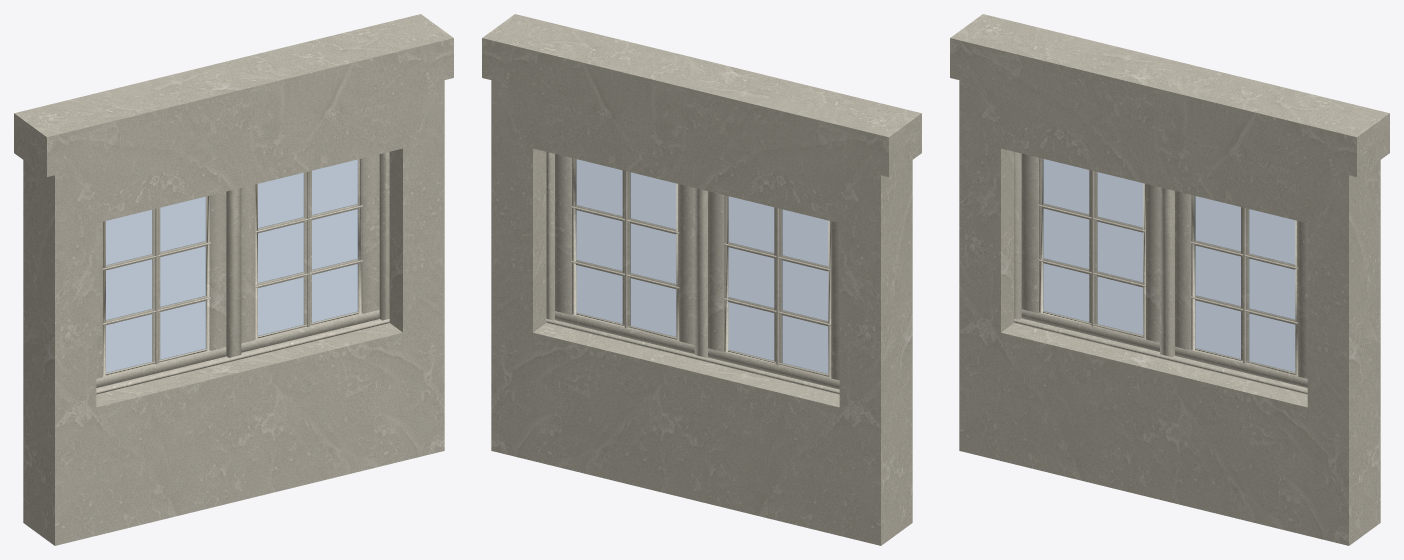
Rendered from AlabasterSquareWIndowedWall.001.glb.
The picture shows the model from 3 angles, left to right: view 1: azimuth 30°, elevation 25°; view 2: azimuth 150°, elevation 25°; view 3: azimuth 330°, elevation 25°; orthographic projection.
Parts seen in each view (by area): view 1: AlabasterSquareWIndowedWall.001; view 2: AlabasterSquareWIndowedWall.001; view 3: AlabasterSquareWIndowedWall.001.
Boxes of the visible parts, box(x1,y1,x2,y2) form: AlabasterSquareWIndowedWall.001: box(14, 14, 453, 545); AlabasterSquareWIndowedWall.001: box(482, 14, 921, 545); AlabasterSquareWIndowedWall.001: box(950, 14, 1389, 545).
Size of what is drawn, in the model's own units: 3.03 by 2.93 by 0.4241.
2 materials, 2 textured.
